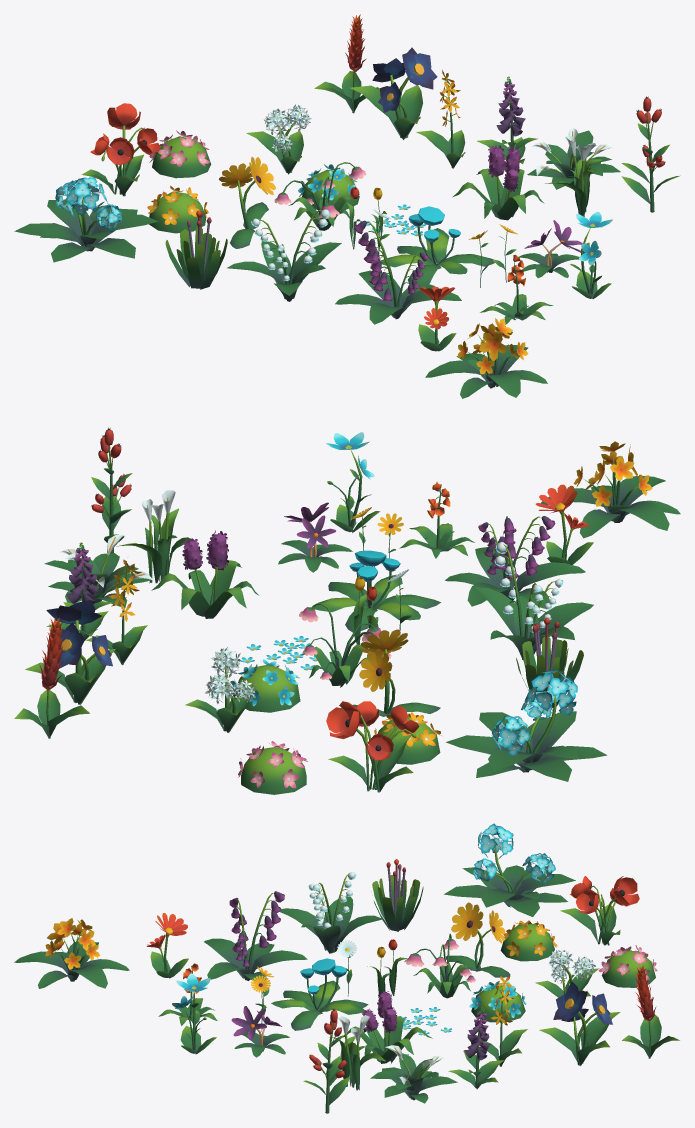
Rendered from flowers.glb.
3 views of the same model, one above another, from view 1: azimuth 30°, elevation 25°; view 2: azimuth 150°, elevation 25°; view 3: azimuth 270°, elevation 25° (orthographic). The views are drawn at different scales.
Visible parts, largest first — view 1: Flower.028, Flower.004, Flower.005, Flower.024, Flower.006, Flower.001, Flower.029, Flower.026, Flower.027, Flower.016, Flower.030, Flower.019 (+13 smaller); view 2: Flower.028, Flower.004, Flower.005, Flower.029, Flower.006, Flower.026, Flower.001, Flower.024, Flower.019, Flower.016, Flower.030, Flower.017 (+14 smaller); view 3: Flower.028, Flower.005, Flower.004, Flower.024, Flower.006, Flower.001, Flower.029, Flower.026, Flower.023, Flower.027, Flower.016, Flower.018 (+13 smaller).
Part boxes in pixels (x1,y1,x2,y2): Flower.028: (14, 177, 158, 262); Flower.004: (425, 318, 547, 398); Flower.005: (335, 220, 461, 324); Flower.024: (349, 47, 437, 139); Flower.006: (227, 209, 341, 301); Flower.001: (381, 206, 494, 285); Flower.029: (81, 103, 160, 196); Flower.026: (452, 145, 544, 220); Flower.027: (165, 210, 227, 289); Flower.016: (219, 156, 275, 248); Flower.030: (246, 104, 311, 174); Flower.019: (149, 130, 211, 178); Flower.028: (446, 670, 607, 781); Flower.004: (541, 441, 680, 538); Flower.005: (445, 516, 585, 608); Flower.029: (326, 701, 419, 792); Flower.006: (475, 542, 593, 660); Flower.026: (151, 530, 259, 618); Flower.001: (312, 550, 440, 632); Flower.024: (25, 600, 115, 704); Flower.019: (238, 741, 307, 794); Flower.016: (341, 629, 440, 716); Flower.030: (185, 647, 256, 732); Flower.017: (231, 659, 300, 712); Flower.028: (444, 823, 575, 916); Flower.005: (204, 891, 307, 982); Flower.004: (14, 918, 129, 988); Flower.024: (539, 981, 620, 1065); Flower.006: (280, 871, 383, 953); Flower.001: (271, 958, 368, 1030); Flower.029: (560, 876, 639, 945); Flower.026: (342, 991, 432, 1063); Flower.023: (370, 1045, 457, 1103); Flower.027: (372, 859, 423, 931); Flower.016: (446, 902, 510, 977); Flower.018: (500, 920, 557, 961).
Bounding box in the file's own units: 2065 × 426 × 2440.
1 material, 1 textured.
